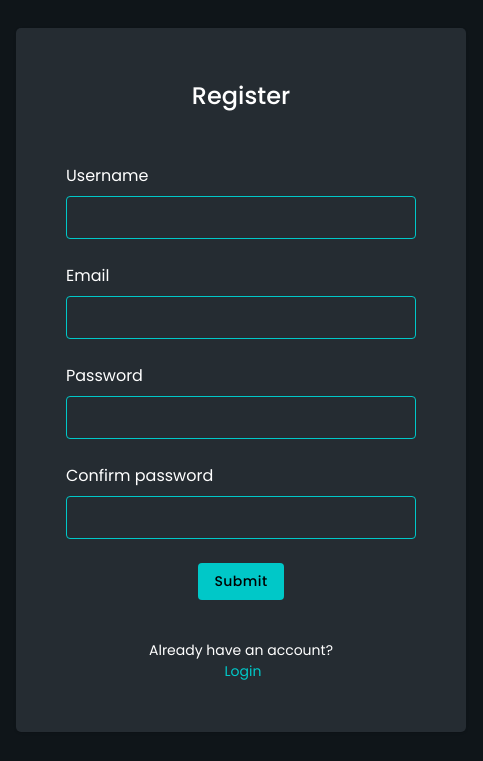
Test: Register form test › 2. New user without username
Step 1. Type "lala@asdsad.com" into the field with test id "Email" → {"x": 241, "y": 318}, box [66,296,416,339]
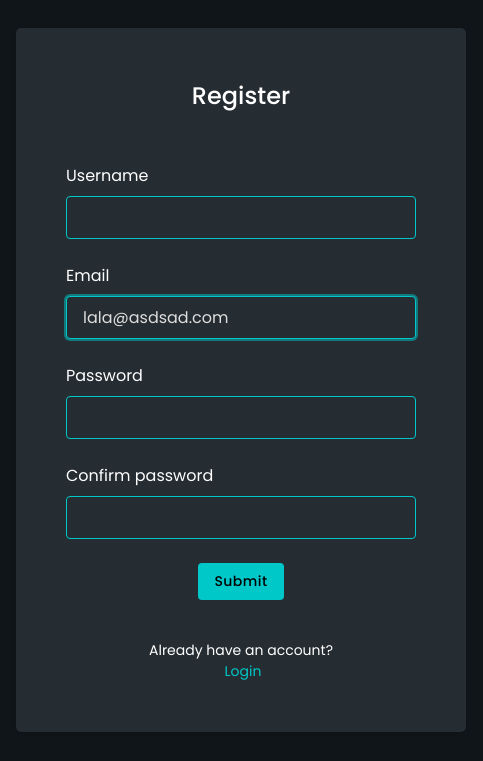
Step 2. Type "Soyunmaestro123" into the password field with test id "Password" → {"x": 241, "y": 418}, box [66,396,416,439]
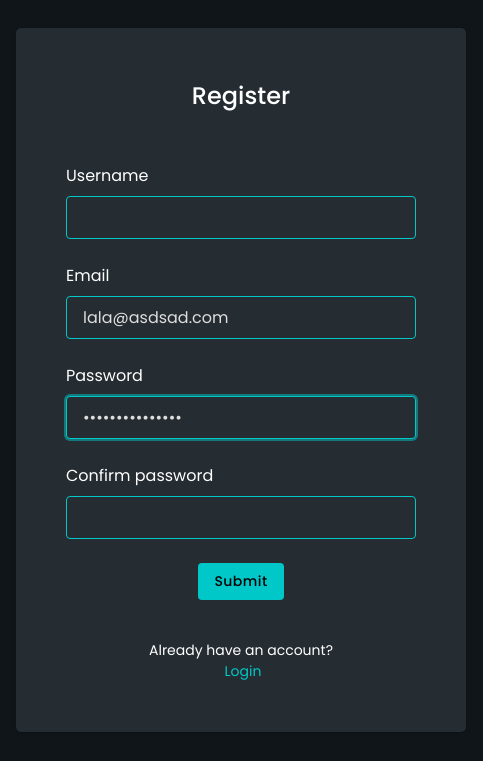
Step 3. Type "Soyunmaestro123" into the password field with test id "Confirm password" → {"x": 241, "y": 518}, box [66,496,416,539]
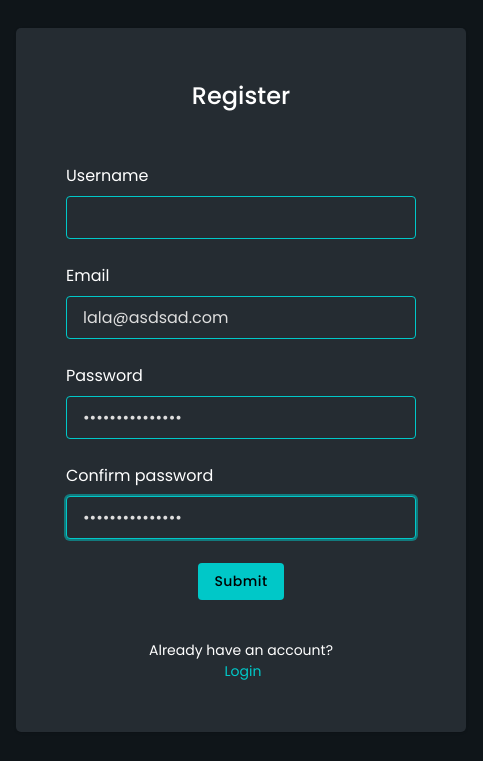
Step 4. Click the button with test id "button" → {"x": 241, "y": 582}, box [198,563,284,600]
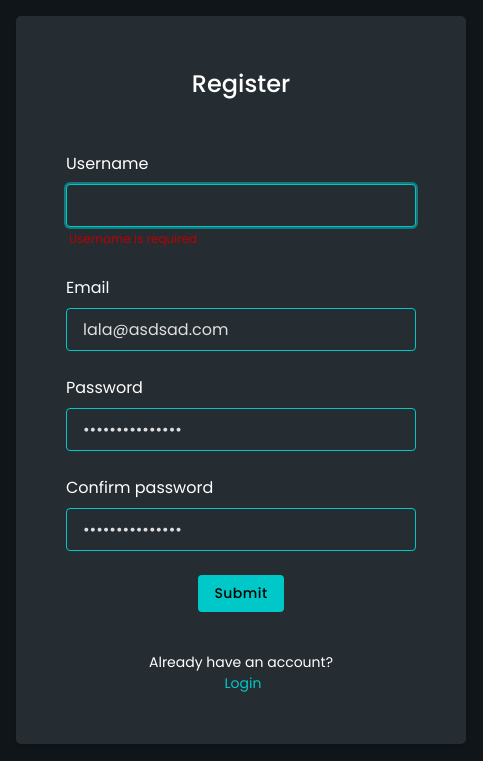
Now the text with test id "alertError" reads "Username is required", box [69,230,197,247]
